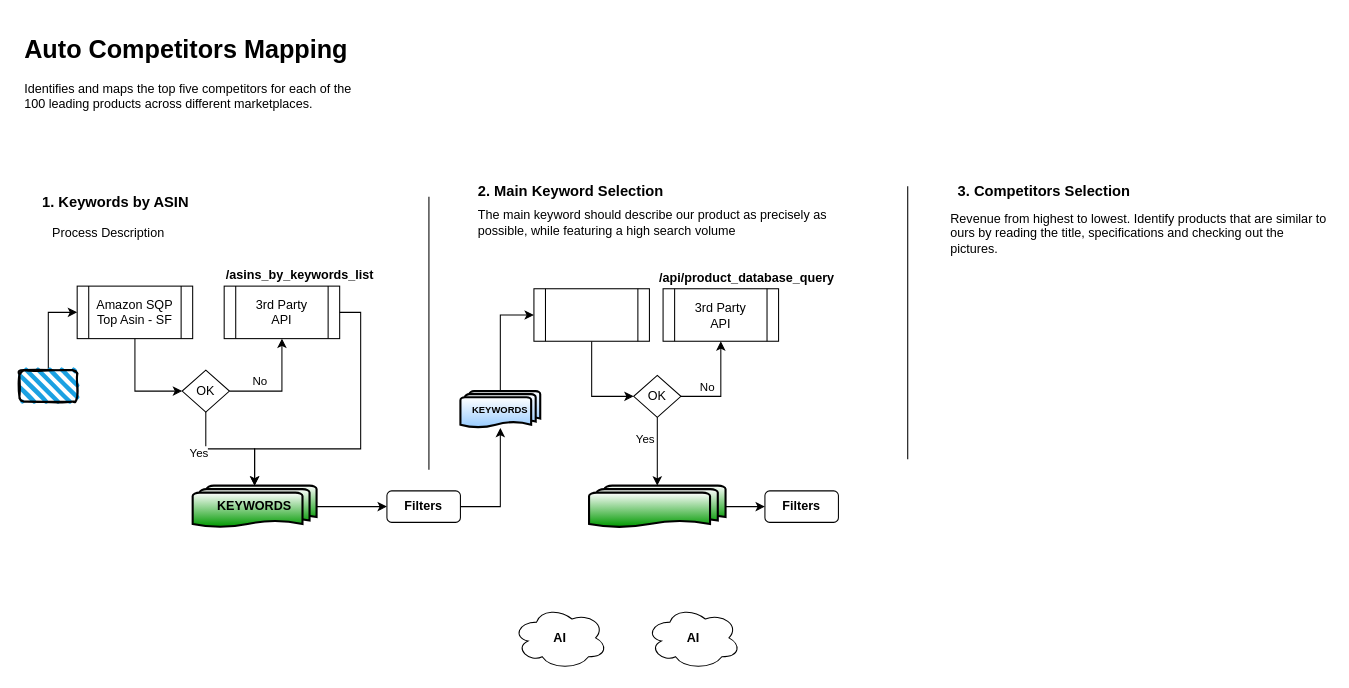
The diagram is 1349 pixels wide and 688 high, and some of its shapes have lost their labels. The centre of each missing label's shape, as x and y in pixels:
"*Amazon SQP Keywords - SF" goes at point 591,314.
"ASIN" goes at point 48,385.
"ASINs + Metrics" goes at point 656,506.
